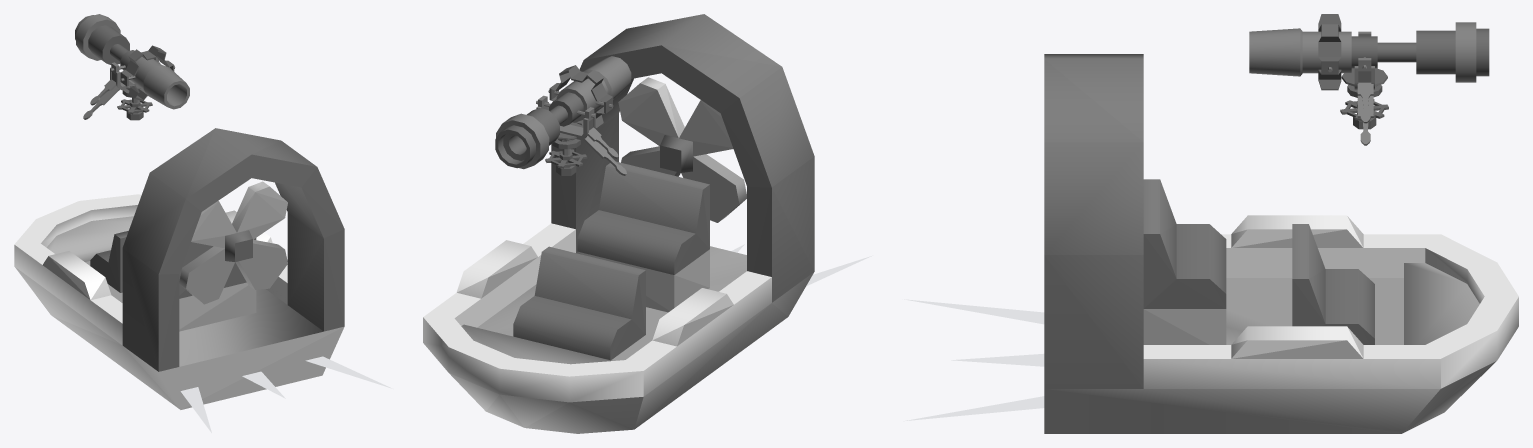
File: mangrove_tube.glb
The picture shows the model from 3 angles, left to right: view 1: azimuth 30°, elevation 25°; view 2: azimuth 150°, elevation 25°; view 3: azimuth 270°, elevation 25°; orthographic projection. The views are drawn at different scales.
Parts seen in each view (by area): view 1: Body, Turret, Wake; view 2: Body, Turret; view 3: Body, Turret, Wake.
Boxes of the visible parts, box(x1,y1,x2,y2) form: Body: box(14, 128, 344, 409); Turret: box(75, 14, 189, 120); Wake: box(180, 356, 392, 432); Body: box(423, 14, 814, 433); Turret: box(495, 56, 631, 175); Body: box(1044, 54, 1518, 433); Turret: box(1249, 14, 1489, 145); Wake: box(903, 299, 1044, 421).
Size of the model in its own units: 4.04 by 5.55 by 8.45.
Materials: 3 (1 with a texture image).
